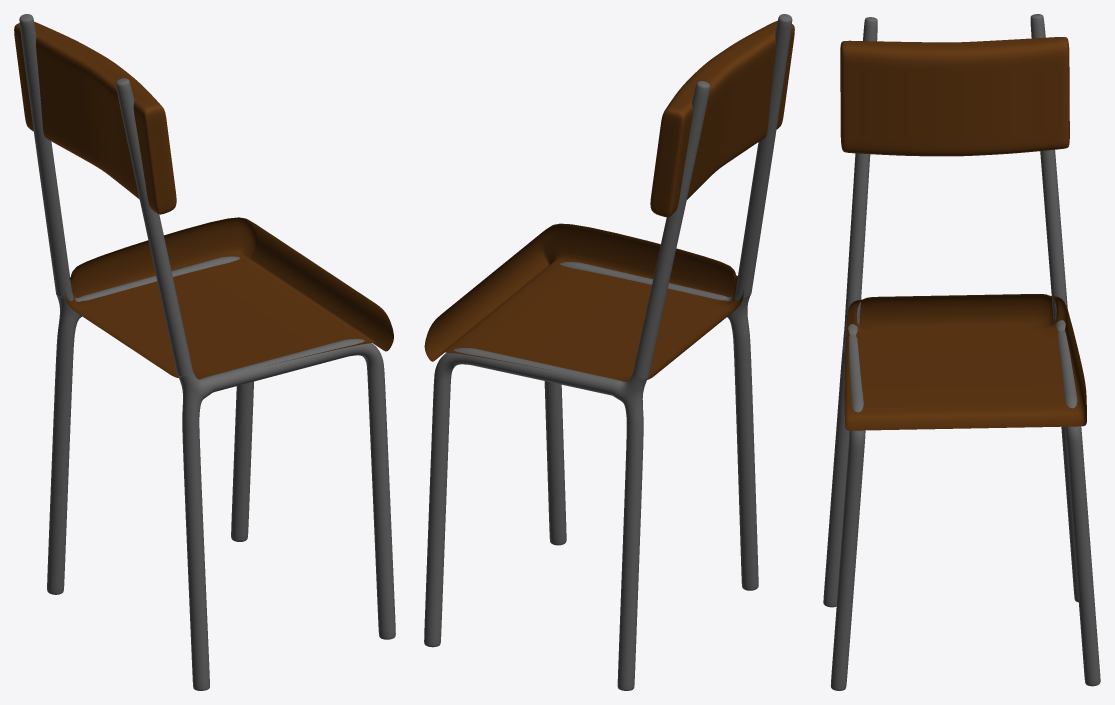
Rendered from Chair.glb.
3 views of the same model, side by side, from view 1: azimuth 30°, elevation 25°; view 2: azimuth 150°, elevation 25°; view 3: azimuth 270°, elevation 25° (orthographic). The views are drawn at different scales.
Parts seen in each view (by area): view 1: Chairmetal.003; view 2: Chairmetal.003; view 3: Chairmetal.003.
Boxes of the visible parts, x1,y1,x2,y2 form: Chairmetal.003: (14, 14, 395, 690); Chairmetal.003: (424, 14, 794, 690); Chairmetal.003: (823, 14, 1100, 690).
Size of the model in its own units: 8.6 by 18.38 by 8.23.
Materials: 1 (1 with a texture image).
